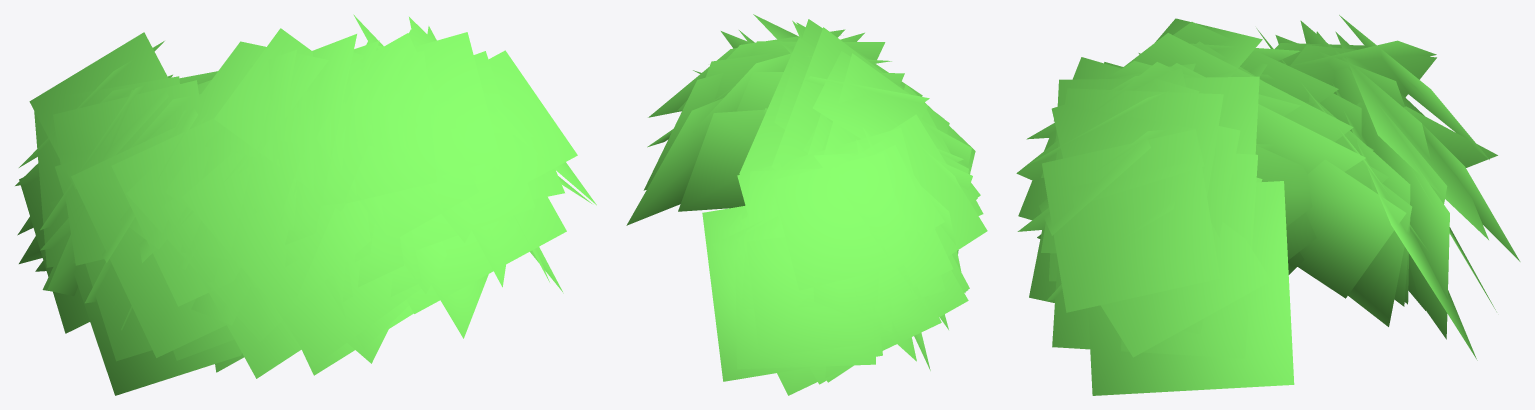
Rendered from G_Canopy_02a.fbx.
3 renders of one model, left to right at view 1: azimuth 30°, elevation 25°; view 2: azimuth 150°, elevation 25°; view 3: azimuth 270°, elevation 25°, orthographic. The views are drawn at different scales.
Visible parts, largest first — view 1: tree.002; view 2: tree.002; view 3: tree.002.
Part boxes in pixels (x1,y1,x2,y2): tree.002: (15,14,596,395); tree.002: (626,14,987,395); tree.002: (1016,15,1520,395).
Bounding box in the file's own units: 1034 × 751 × 952.
